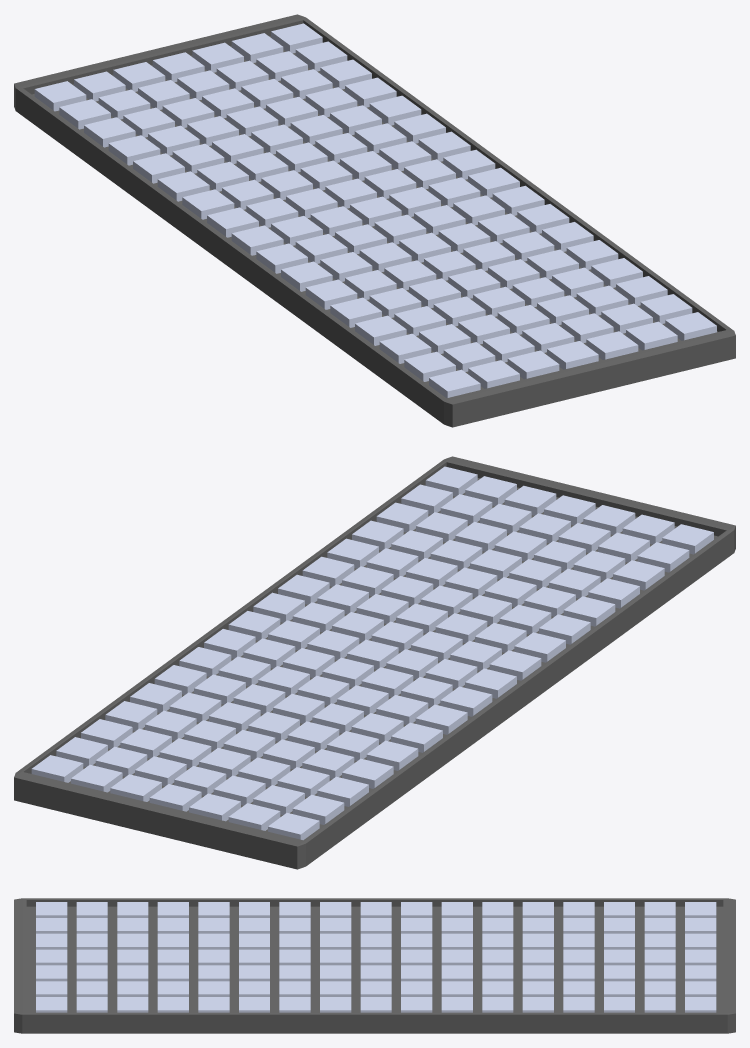
Rendered from keyboard.fbx.
The picture shows the model from 3 angles, top to bottom: view 1: azimuth 30°, elevation 25°; view 2: azimuth 150°, elevation 25°; view 3: azimuth 270°, elevation 25°; orthographic projection. The views are drawn at different scales.
Parts seen in each view (by area): view 1: Cube.001, Cube; view 2: Cube.001, Cube; view 3: Cube.001, Cube.
Part boxes in pixels (x1=…): Cube.001: x1=34, y1=23, x2=716, y2=398; Cube: x1=14, y1=14, x2=735, y2=427; Cube.001: x1=31, y1=466, x2=713, y2=840; Cube: x1=14, y1=456, x2=735, y2=869; Cube.001: x1=36, y1=902, x2=716, y2=1012; Cube: x1=14, y1=898, x2=735, y2=1033.
Size of the model in its own units: 200 by 16.08 by 524.
